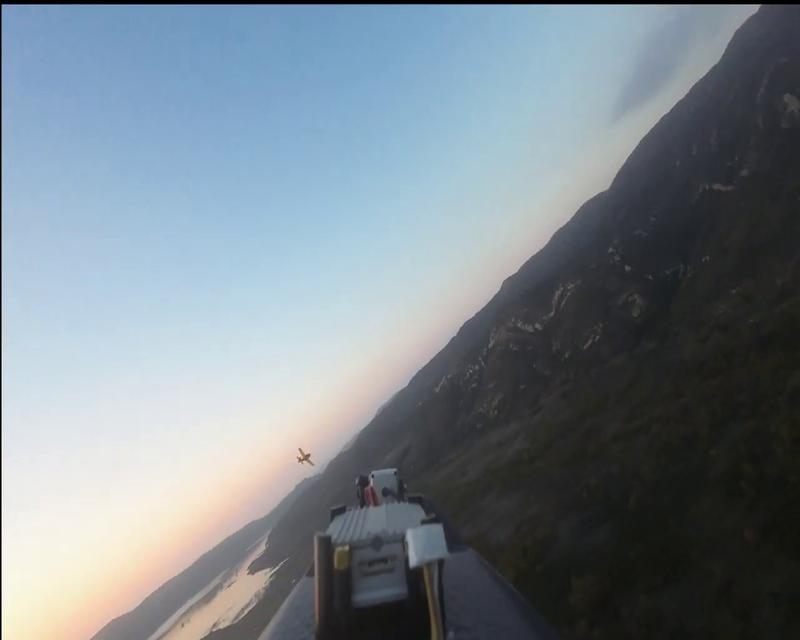UAV: (293, 448, 316, 466)
